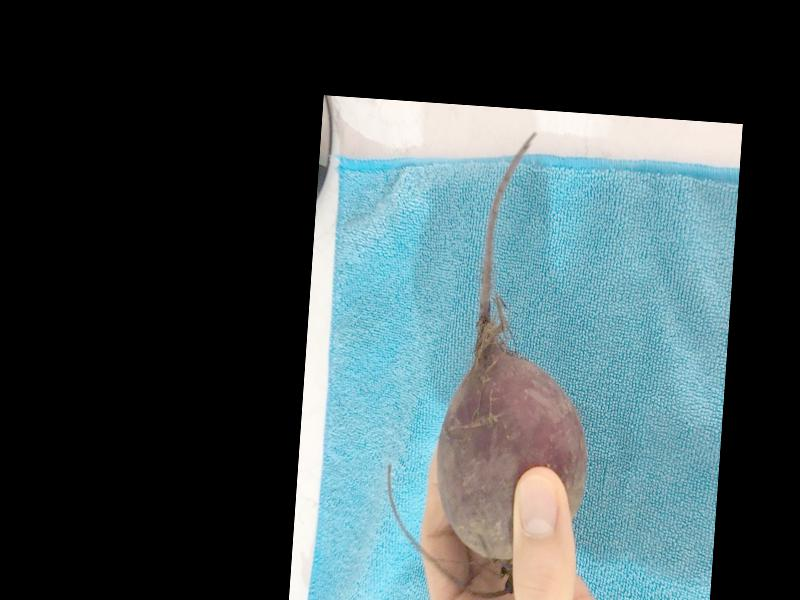Beet: (380, 122, 610, 600)
